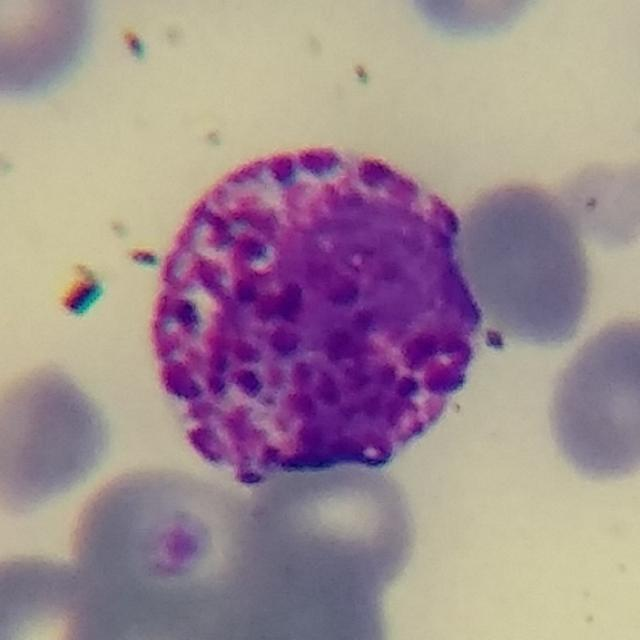baso: (153, 142, 488, 486)
